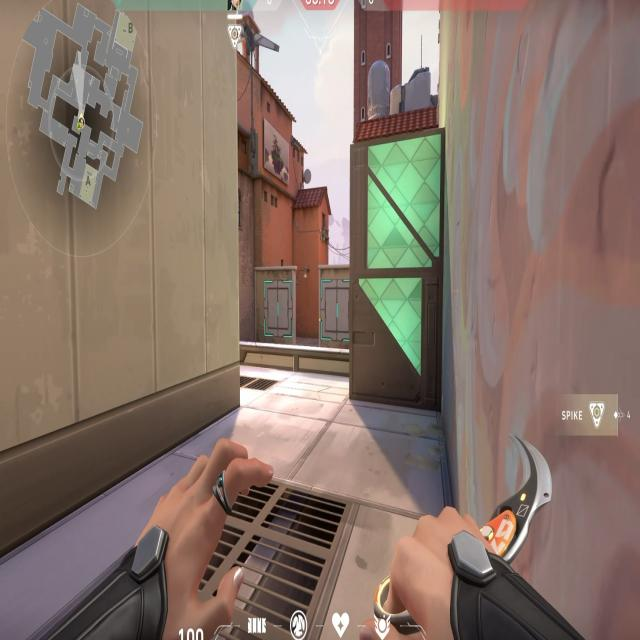Mid_Wall: (251, 254, 307, 366), (316, 260, 352, 360)
